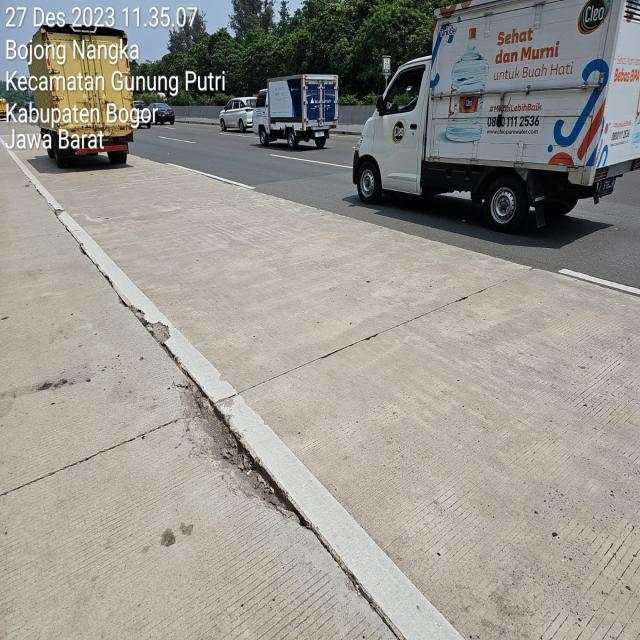Buraco: (170, 380, 316, 532), (126, 304, 173, 346), (45, 201, 66, 219)
